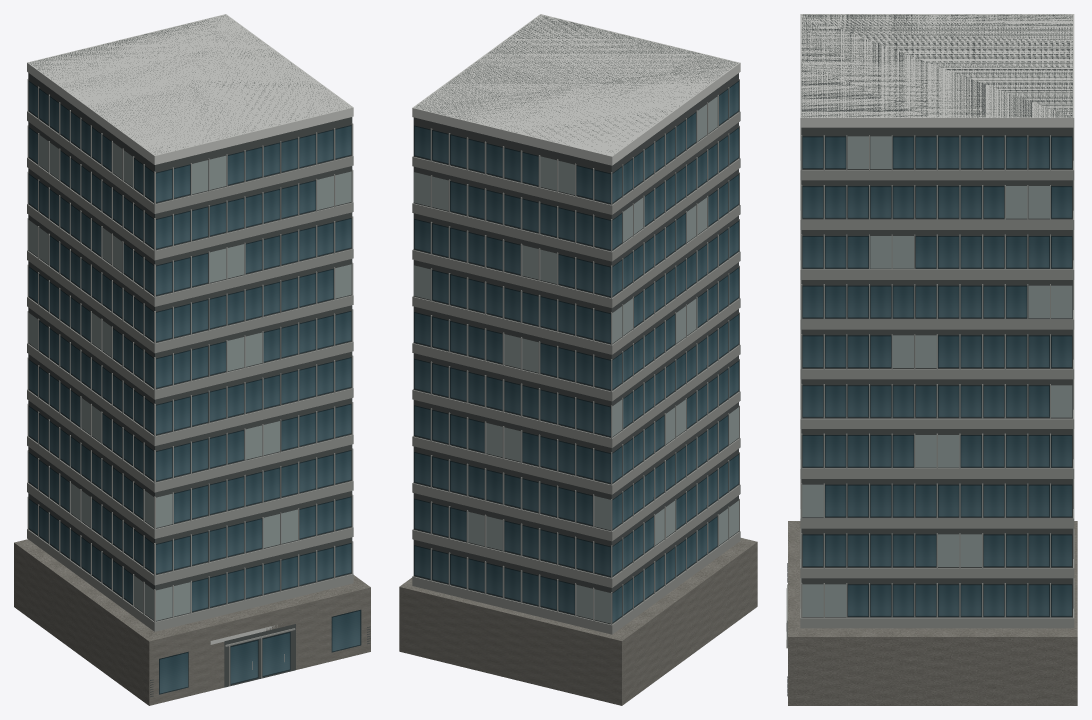
The model's file is urban_tower_a.glb.
3 renders of one model, left to right at view 1: azimuth 30°, elevation 25°; view 2: azimuth 150°, elevation 25°; view 3: azimuth 270°, elevation 25°, orthographic. The views are drawn at different scales.
Parts seen in each view (by area): view 1: UrbanGlazing, UrbanAnodizedMetal, UrbanPaleConcrete, UrbanRecess, UrbanStone, UrbanGlazingWarm; view 2: UrbanGlazing, UrbanAnodizedMetal, UrbanRecess, UrbanPaleConcrete, UrbanStone, UrbanGlazingWarm; view 3: UrbanGlazing, UrbanRecess, UrbanAnodizedMetal, UrbanPaleConcrete, UrbanStone, UrbanGlazingWarm.
Part boxes in pixels (x1,y1,x2,y2): UrbanGlazing: (28,81,361,694); UrbanAnodizedMetal: (27,79,353,686); UrbanPaleConcrete: (27,14,353,669); UrbanRecess: (28,15,370,696); UrbanStone: (14,539,370,705); UrbanGlazingWarm: (28,134,351,620); UrbanGlazing: (414,81,738,623); UrbanAnodizedMetal: (412,79,740,634); UrbanRecess: (413,15,738,624); UrbanPaleConcrete: (412,14,740,165); UrbanStone: (399,538,757,705); UrbanGlazingWarm: (414,96,738,623); UrbanGlazing: (802,136,1072,616); UrbanRecess: (787,14,1072,696); UrbanAnodizedMetal: (786,127,1074,648); UrbanPaleConcrete: (786,14,1074,648); UrbanStone: (788,521,1077,705); UrbanGlazingWarm: (802,136,1072,616).
Bounding box in the file's own units: 18 × 42.1 × 19.11.
6 materials, 2 textured.
